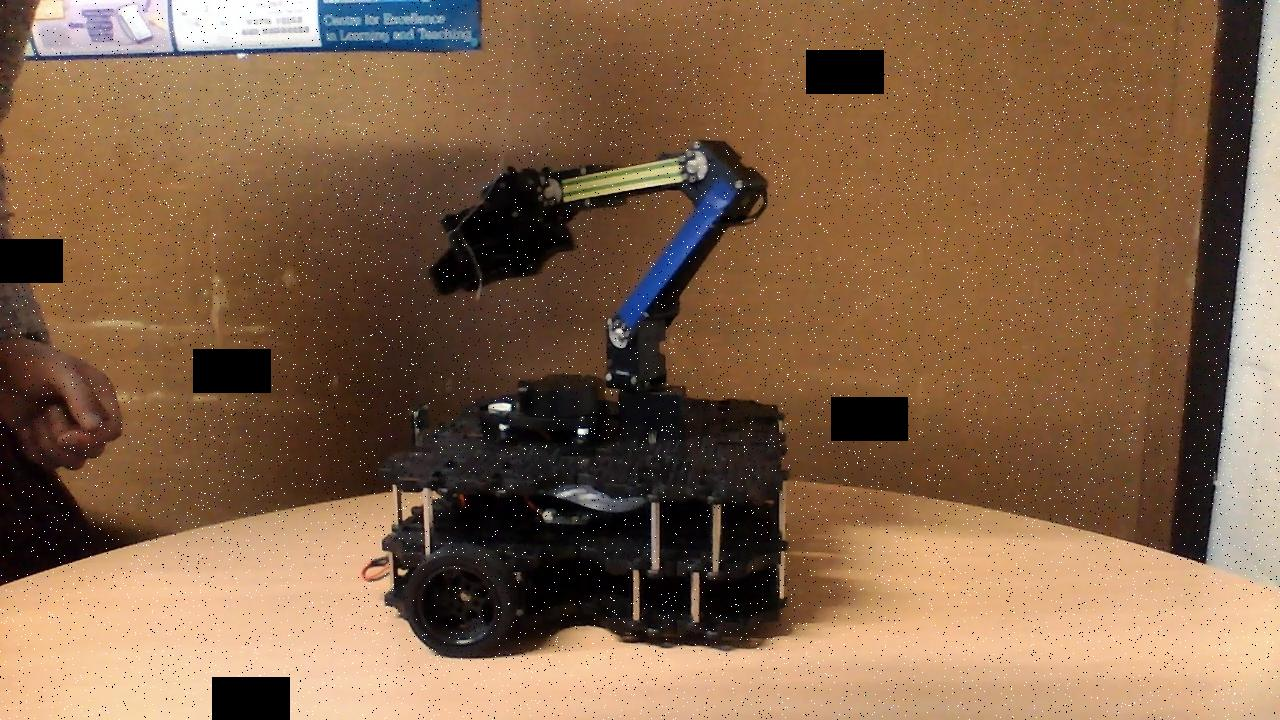Arm: (604, 167, 768, 353)
Hand: (426, 160, 580, 305)
Wrist: (533, 136, 717, 217)
base: (360, 372, 792, 659)
